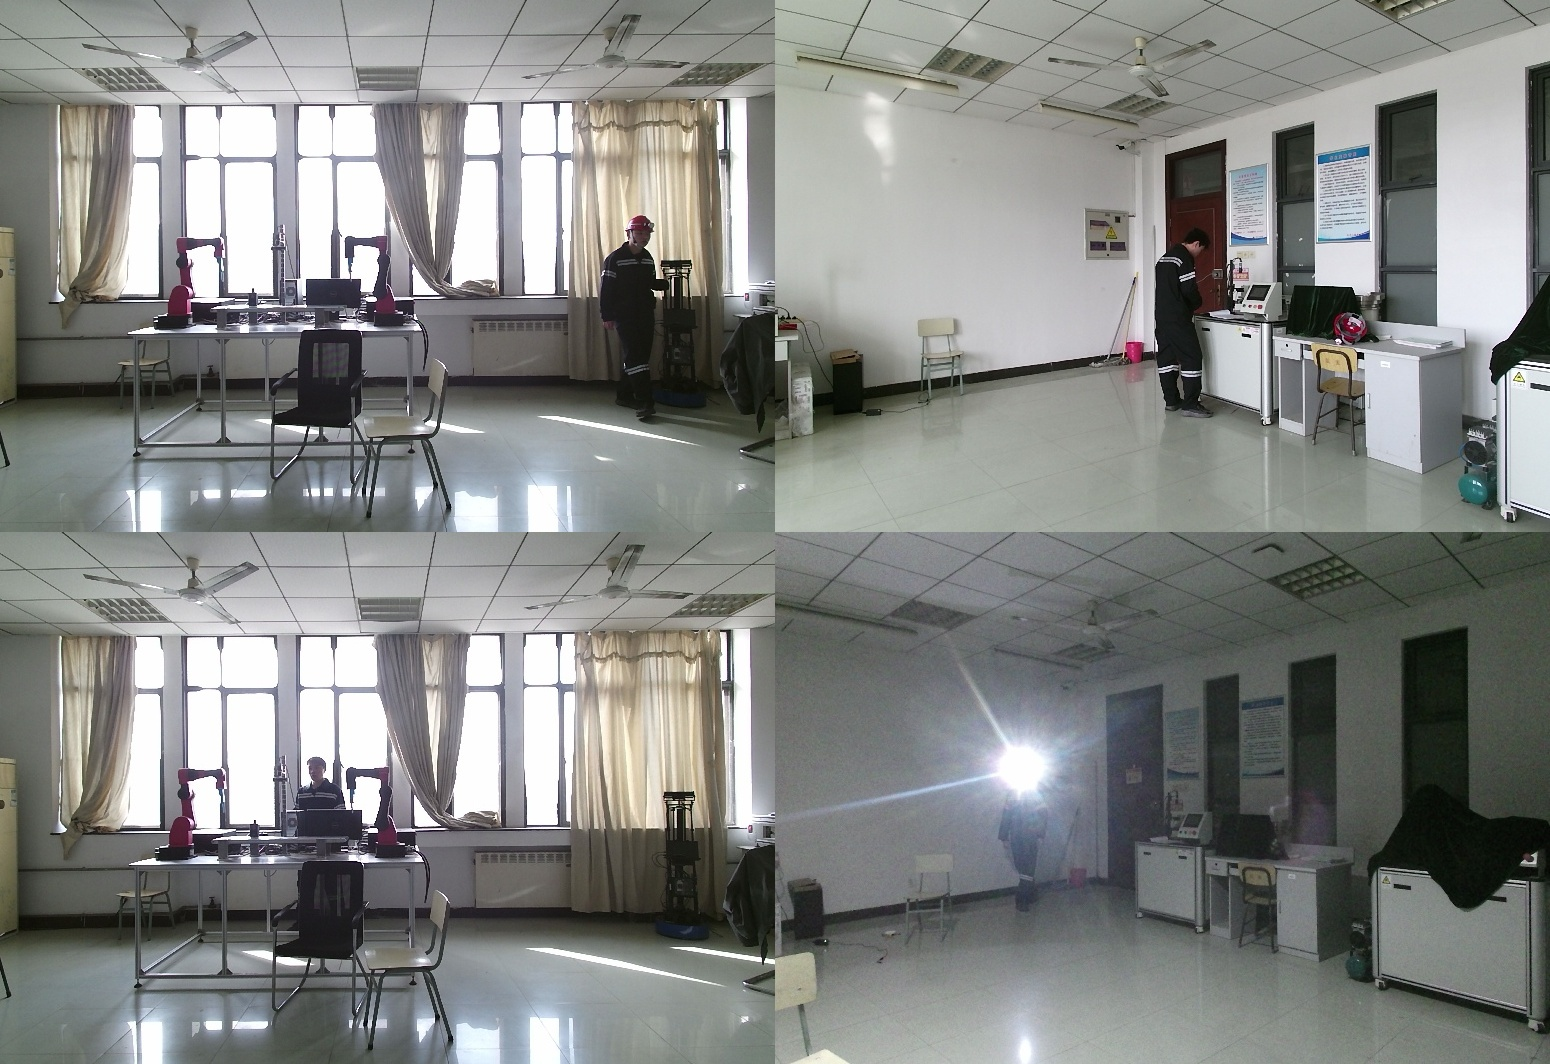person: (599, 215, 672, 422), (1156, 231, 1215, 428), (999, 765, 1053, 914), (288, 759, 358, 839)
